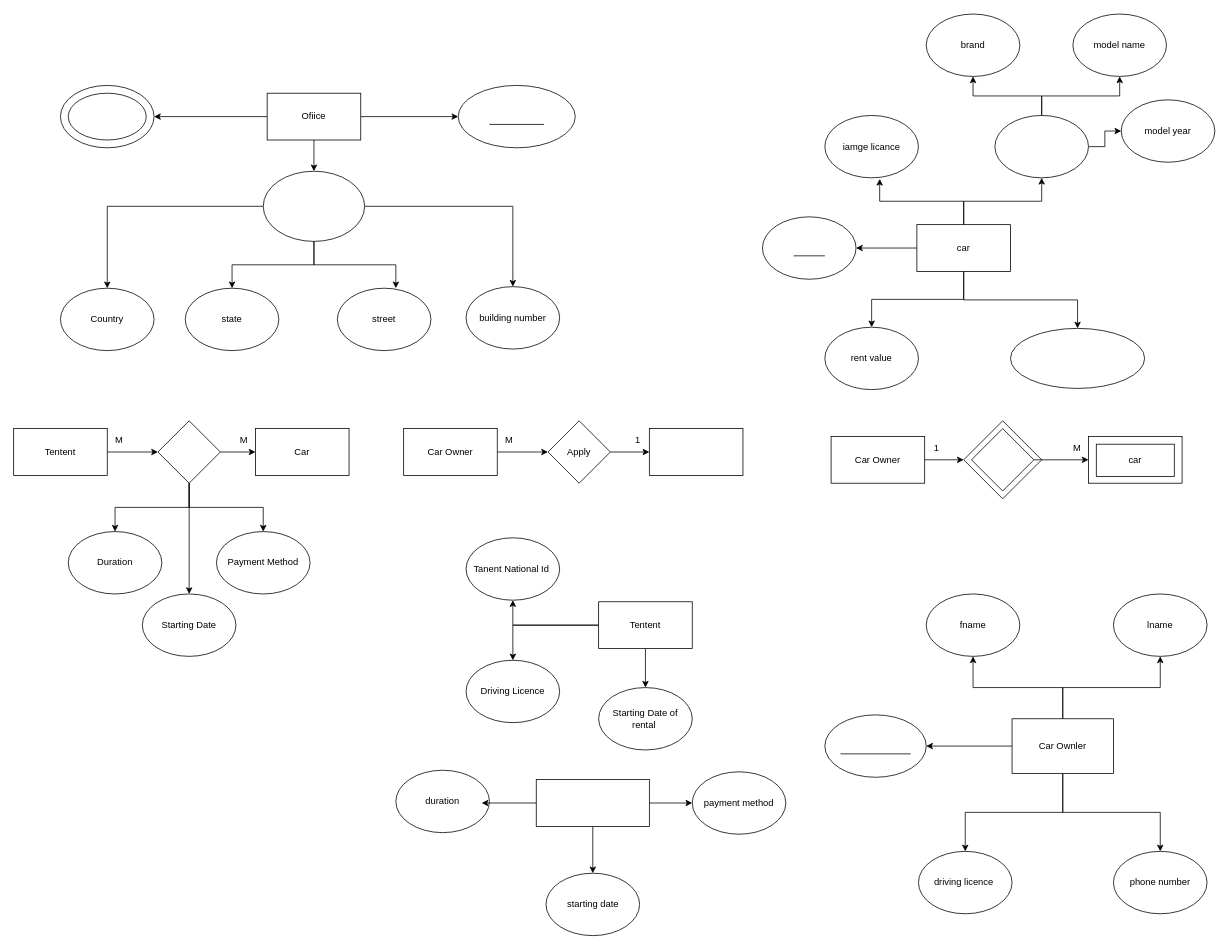
This 1229x949 diagram has some shape labels left out. Each missing label, with the box of its shape:
address: (262, 170, 365, 241)
car id pk: (762, 216, 856, 279)
Car Owner National Id: (824, 714, 926, 777)
car status (booked, maintainince,avaliable): (1010, 328, 1145, 388)
contact number: (67, 92, 146, 140)
contract: (535, 779, 649, 826)
model: (994, 115, 1088, 178)
Office: (649, 428, 743, 475)
office id pk: (457, 85, 575, 148)
Own: (971, 428, 1034, 491)
Rent: (157, 420, 220, 483)
